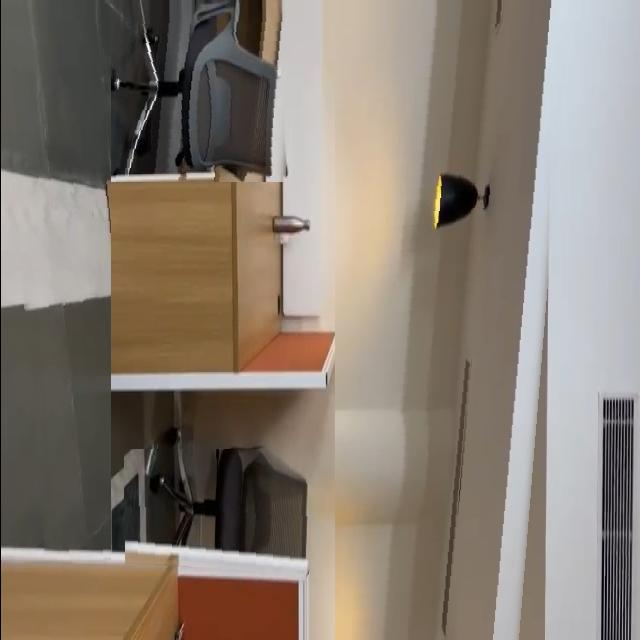floor: (0, 17, 110, 560)
furniture: (109, 16, 301, 182), (123, 449, 314, 575)
wall: (334, 0, 570, 640)
